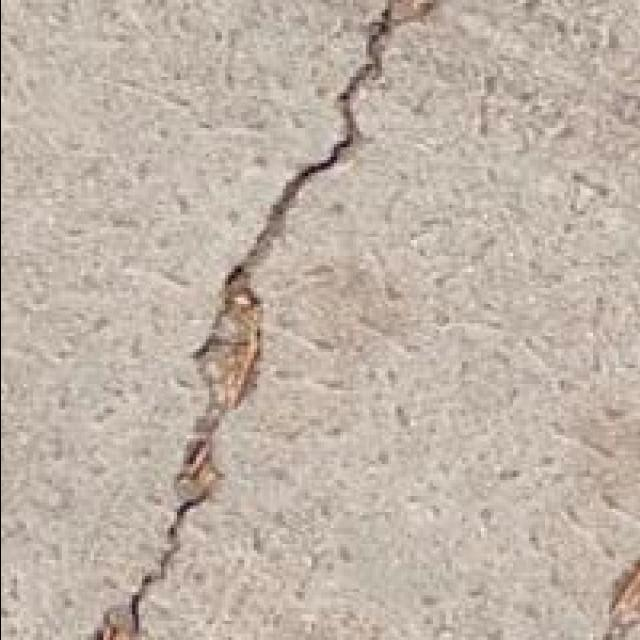SurfaceCrack: (76, 0, 434, 640)
